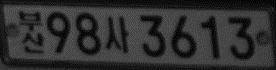1: (198, 15, 225, 59)
3: (227, 15, 255, 60), (139, 14, 167, 58)
6: (170, 14, 197, 59)
8: (74, 11, 101, 55)
9: (46, 11, 72, 53)
부산_V: (19, 10, 45, 54)
사: (104, 15, 130, 54)
